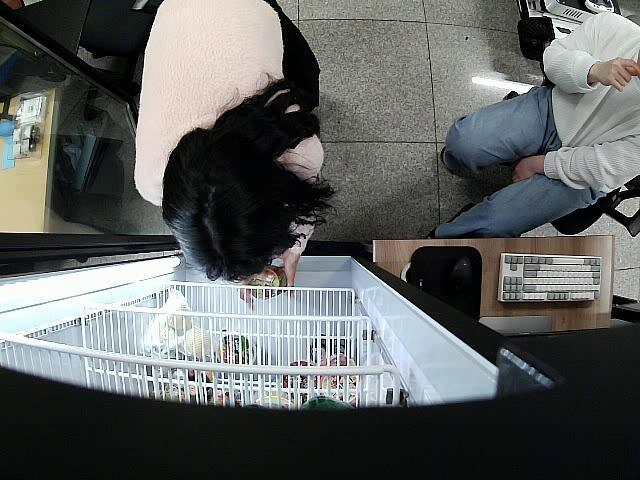04_chapagetti_S: (252, 270, 286, 300)
